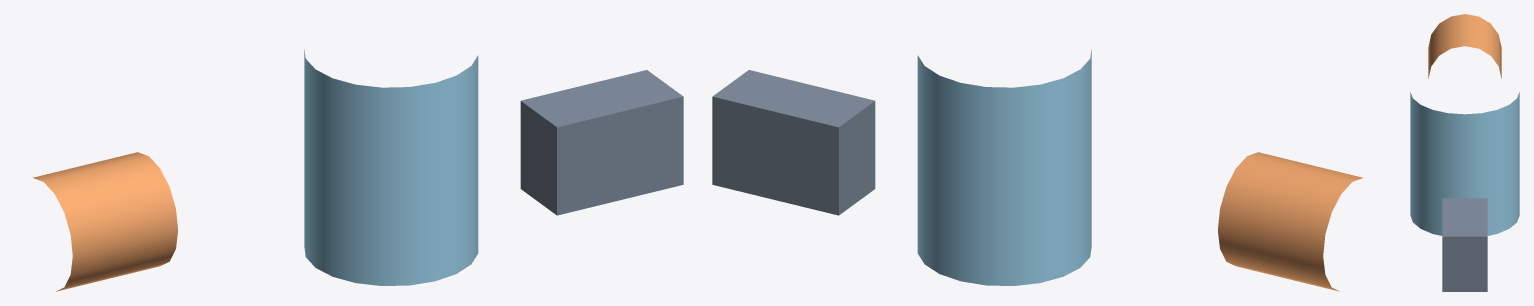
File: photoelectric_effect_inverse_square_law.glb
3 renders of one model, left to right at view 1: azimuth 30°, elevation 25°; view 2: azimuth 150°, elevation 25°; view 3: azimuth 270°, elevation 25°, orthographic. The views are drawn at different scales.
Visible parts, largest first — view 1: EvacuatedPhotocellTubeHousing, MicroammeterPhotoCurrentDisplay, VariableDistanceLightSourceLamp; view 2: EvacuatedPhotocellTubeHousing, MicroammeterPhotoCurrentDisplay, VariableDistanceLightSourceLamp; view 3: EvacuatedPhotocellTubeHousing, MicroammeterPhotoCurrentDisplay, VariableDistanceLightSourceLamp.
Part boxes in pixels (box(x1,y1,x2,y2)): EvacuatedPhotocellTubeHousing: box(304, 49, 478, 285); MicroammeterPhotoCurrentDisplay: box(520, 70, 683, 215); VariableDistanceLightSourceLamp: box(32, 152, 178, 291); EvacuatedPhotocellTubeHousing: box(917, 49, 1091, 285); MicroammeterPhotoCurrentDisplay: box(712, 70, 875, 215); VariableDistanceLightSourceLamp: box(1217, 152, 1363, 291); EvacuatedPhotocellTubeHousing: box(1410, 92, 1519, 235); MicroammeterPhotoCurrentDisplay: box(1442, 198, 1487, 291); VariableDistanceLightSourceLamp: box(1428, 14, 1501, 78).
Size of the model in its own units: 1.48 by 0.45 by 0.36.
